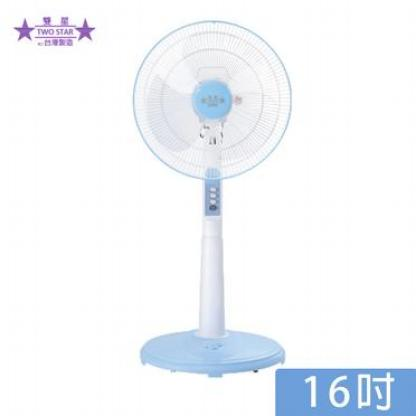fan: (128, 17, 299, 380)
